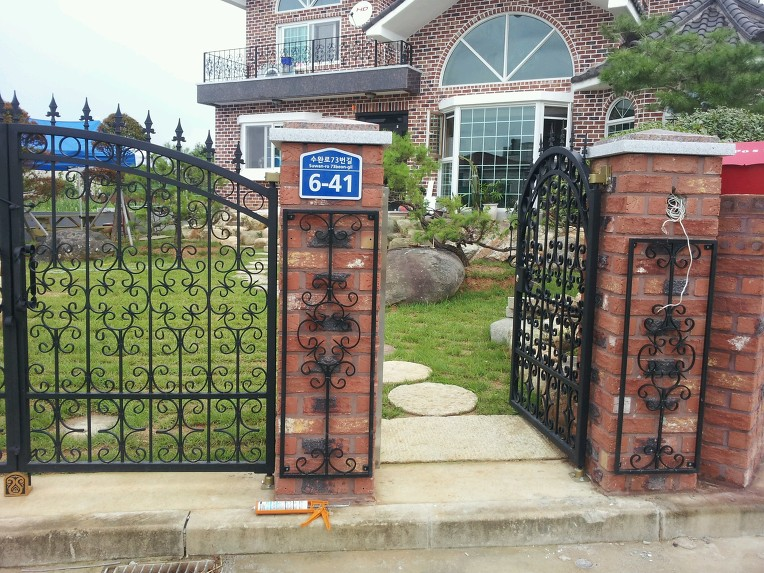building_license_plate1: (300, 149, 362, 200)
